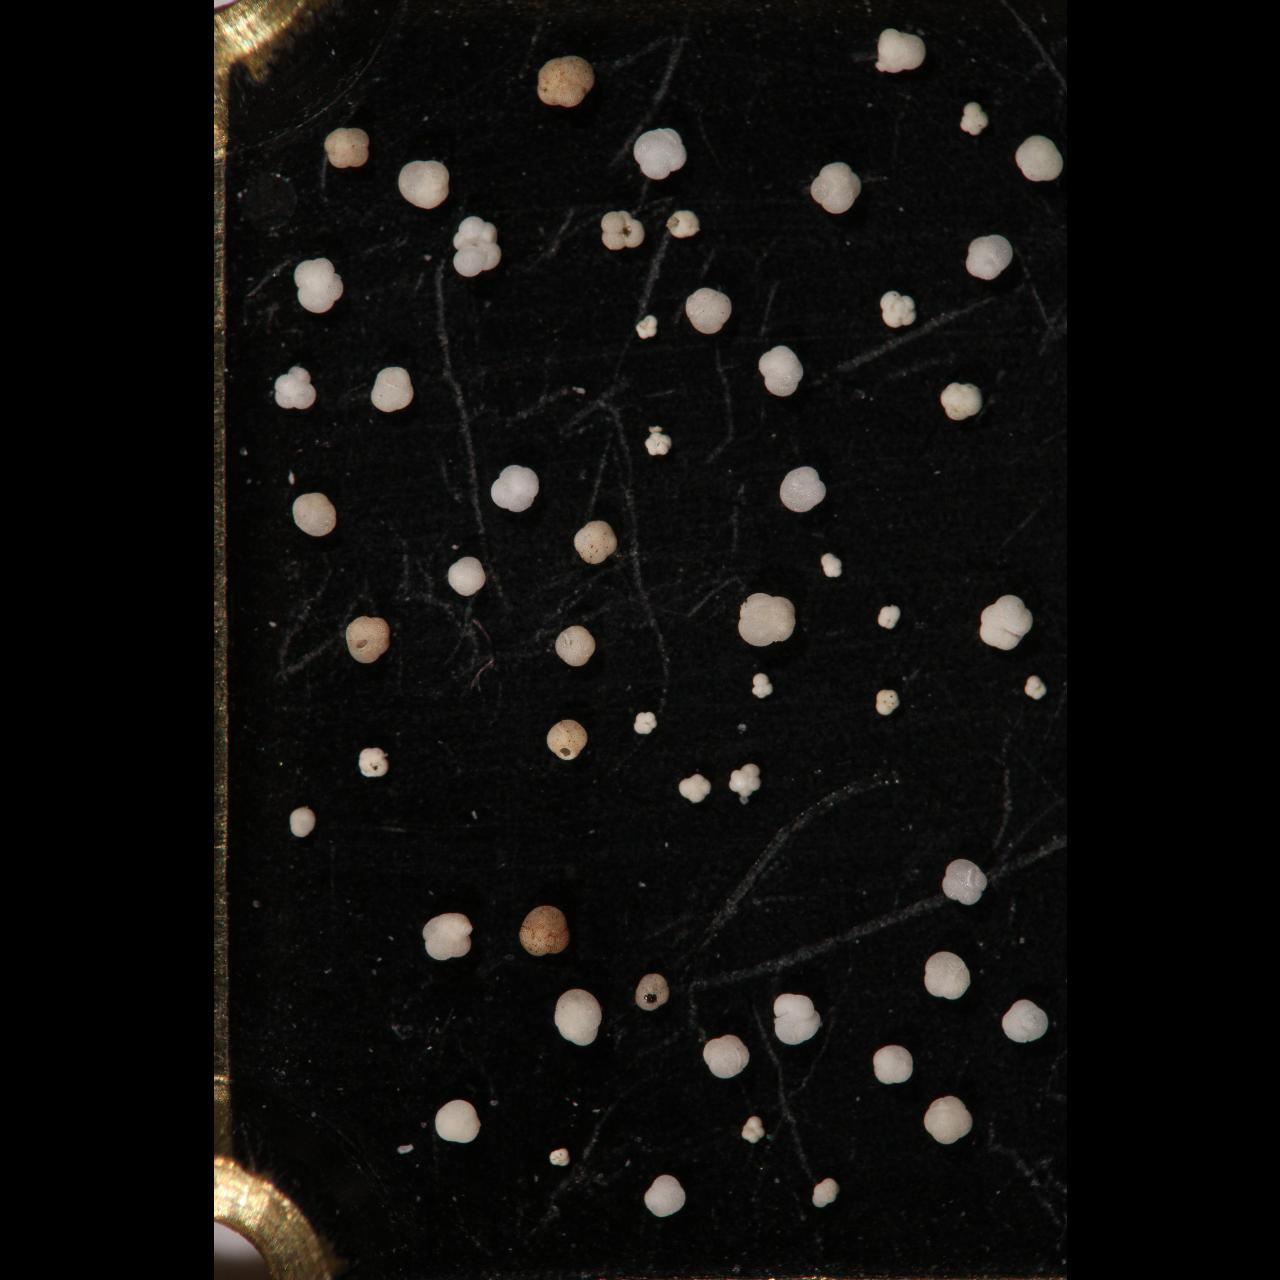planktic: (976, 592, 1034, 652), (536, 54, 597, 110), (736, 591, 797, 647), (632, 124, 688, 182), (517, 903, 572, 960), (451, 215, 501, 278), (809, 161, 863, 217), (293, 257, 345, 315), (554, 987, 602, 1049), (421, 911, 475, 964), (396, 159, 451, 211), (777, 463, 829, 517), (922, 1094, 974, 1146), (488, 463, 540, 513), (772, 993, 822, 1047), (682, 286, 734, 336), (1014, 132, 1065, 183), (874, 27, 928, 75), (757, 342, 804, 397), (922, 949, 972, 1001), (434, 1096, 483, 1148), (343, 612, 390, 666), (940, 857, 988, 908), (966, 233, 1014, 282), (701, 1033, 751, 1080), (1001, 998, 1049, 1044), (369, 365, 415, 414), (571, 518, 617, 567), (272, 363, 316, 413), (324, 124, 370, 170), (291, 491, 338, 537), (642, 1172, 688, 1219), (552, 624, 598, 668), (600, 209, 646, 252), (939, 381, 983, 423), (445, 554, 486, 599), (546, 717, 587, 761), (871, 1044, 914, 1085), (634, 972, 670, 1014), (880, 290, 918, 329), (729, 762, 762, 801), (678, 772, 712, 806), (666, 207, 701, 240), (810, 1175, 839, 1211), (359, 745, 388, 781), (960, 101, 988, 136), (644, 423, 672, 456), (290, 805, 316, 839), (738, 1115, 765, 1145), (874, 686, 899, 719), (1023, 673, 1049, 701), (877, 602, 901, 632), (633, 708, 658, 737), (818, 551, 842, 581), (751, 672, 772, 700), (635, 314, 658, 340), (549, 1146, 570, 1170)
